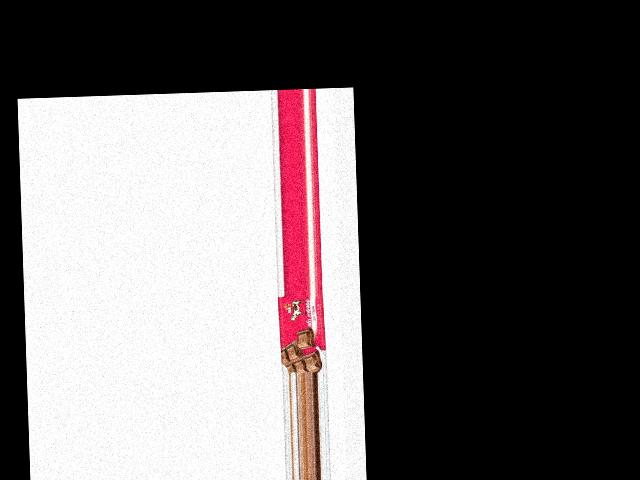chocolate: (279, 293, 327, 373)
